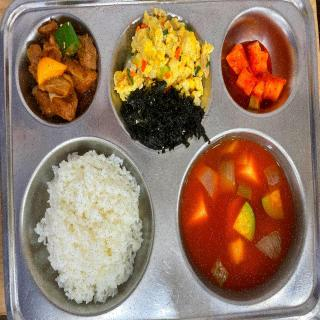Nasi: (26, 144, 144, 307)
